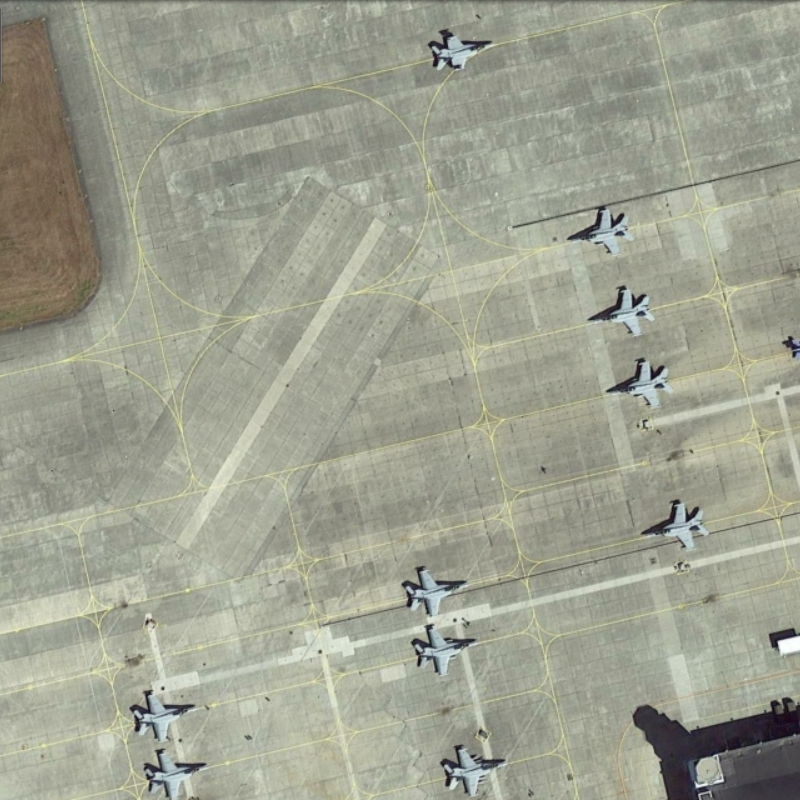A16: (400, 617, 483, 683), (632, 491, 711, 555), (599, 350, 675, 416), (434, 735, 511, 800), (396, 557, 474, 621), (124, 680, 202, 744), (585, 278, 660, 343), (563, 198, 639, 261), (423, 23, 501, 82), (137, 744, 210, 800)
